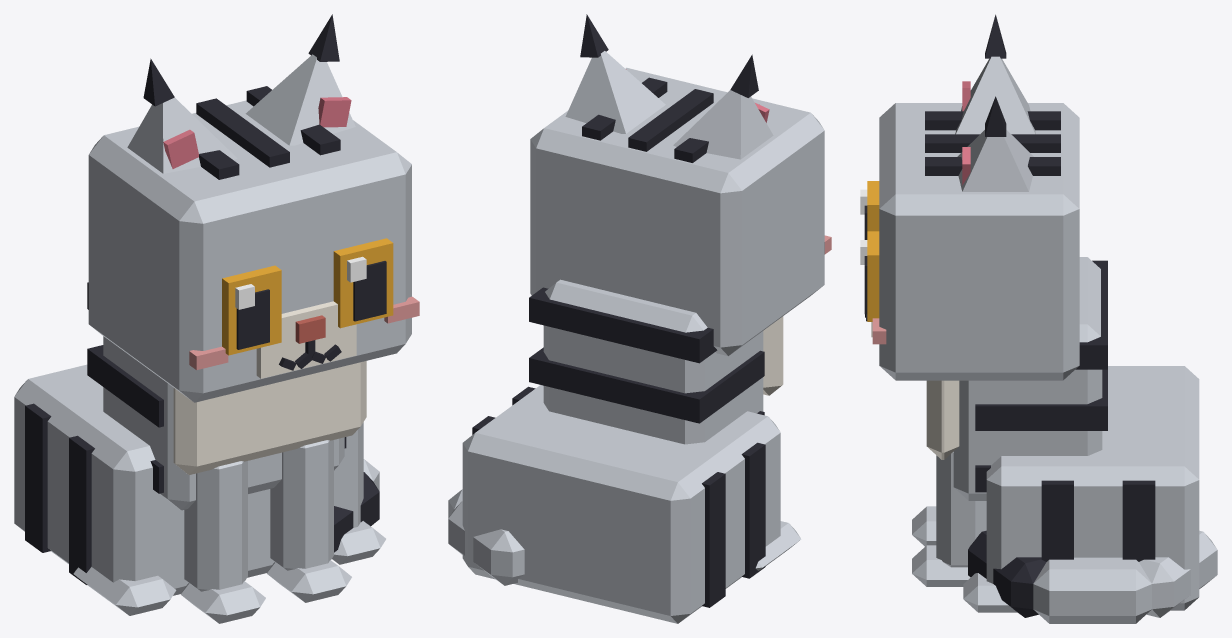
Rendered from CatCafe_Cat_MaineCoon_Sit.glb.
The picture shows the model from 3 angles, left to right: view 1: azimuth 30°, elevation 25°; view 2: azimuth 150°, elevation 25°; view 3: azimuth 270°, elevation 25°; orthographic projection. The views are drawn at different scales.
Visible parts, largest first — view 1: CatCafe_Cat_MaineCoon_Sit_Head, CatCafe_Cat_MaineCoon_Sit_Body, CatCafe_Cat_MaineCoon_Sit_LegF2, CatCafe_Cat_MaineCoon_Sit_LegF1, CatCafe_Cat_MaineCoon_Sit_EarL, CatCafe_Cat_MaineCoon_Sit_EarR, CatCafe_Cat_MaineCoon_Sit_Eye2, CatCafe_Cat_MaineCoon_Sit_Eye1, CatCafe_Cat_MaineCoon_Sit_Tail; view 2: CatCafe_Cat_MaineCoon_Sit_Body, CatCafe_Cat_MaineCoon_Sit_Head, CatCafe_Cat_MaineCoon_Sit_EarL, CatCafe_Cat_MaineCoon_Sit_EarR, CatCafe_Cat_MaineCoon_Sit_Tail; view 3: CatCafe_Cat_MaineCoon_Sit_Body, CatCafe_Cat_MaineCoon_Sit_Head, CatCafe_Cat_MaineCoon_Sit_Tail, CatCafe_Cat_MaineCoon_Sit_LegF1, CatCafe_Cat_MaineCoon_Sit_EarL, CatCafe_Cat_MaineCoon_Sit_EarR, CatCafe_Cat_MaineCoon_Sit_Eye1, CatCafe_Cat_MaineCoon_Sit_Eye2, CatCafe_Cat_MaineCoon_Sit_LegF2.
Part boxes in pixels (x1,y1,x2,y2): CatCafe_Cat_MaineCoon_Sit_Head: (88,86,419,402); CatCafe_Cat_MaineCoon_Sit_Body: (14,282,385,615); CatCafe_Cat_MaineCoon_Sit_LegF2: (181,461,265,623); CatCafe_Cat_MaineCoon_Sit_LegF1: (267,440,351,602); CatCafe_Cat_MaineCoon_Sit_EarL: (245,14,355,145); CatCafe_Cat_MaineCoon_Sit_EarR: (127,58,237,173); CatCafe_Cat_MaineCoon_Sit_Eye2: (222,265,281,355); CatCafe_Cat_MaineCoon_Sit_Eye1: (333,238,393,328); CatCafe_Cat_MaineCoon_Sit_Tail: (334,459,379,552); CatCafe_Cat_MaineCoon_Sit_Body: (462,279,801,623); CatCafe_Cat_MaineCoon_Sit_Head: (530,67,831,356); CatCafe_Cat_MaineCoon_Sit_EarL: (565,14,665,133); CatCafe_Cat_MaineCoon_Sit_EarR: (673,54,773,159); CatCafe_Cat_MaineCoon_Sit_Tail: (448,489,524,585); CatCafe_Cat_MaineCoon_Sit_Body: (926,257,1199,612); CatCafe_Cat_MaineCoon_Sit_Head: (865,103,1079,380); CatCafe_Cat_MaineCoon_Sit_Tail: (968,530,1217,623); CatCafe_Cat_MaineCoon_Sit_LegF1: (912,452,986,586); CatCafe_Cat_MaineCoon_Sit_EarL: (957,96,1033,191); CatCafe_Cat_MaineCoon_Sit_EarR: (955,14,1035,134); CatCafe_Cat_MaineCoon_Sit_Eye1: (860,231,879,321); CatCafe_Cat_MaineCoon_Sit_Eye2: (860,181,879,239); CatCafe_Cat_MaineCoon_Sit_LegF2: (912,506,936,546).
Size of the model in its own units: 1.36 by 2.35 by 1.51.
Materials: 1 (1 with a texture image).
